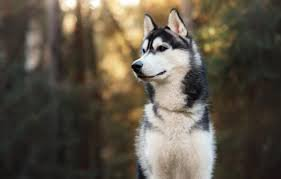dog: (126, 5, 223, 179)
